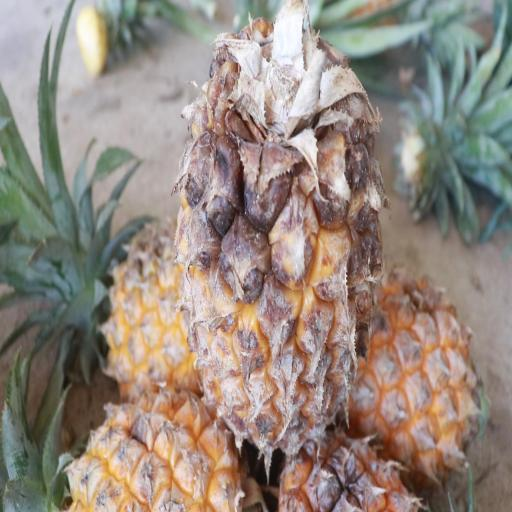Pineapple - v8 v1: (174, 0, 388, 463), (347, 249, 486, 494), (73, 222, 249, 408), (58, 381, 273, 512)
